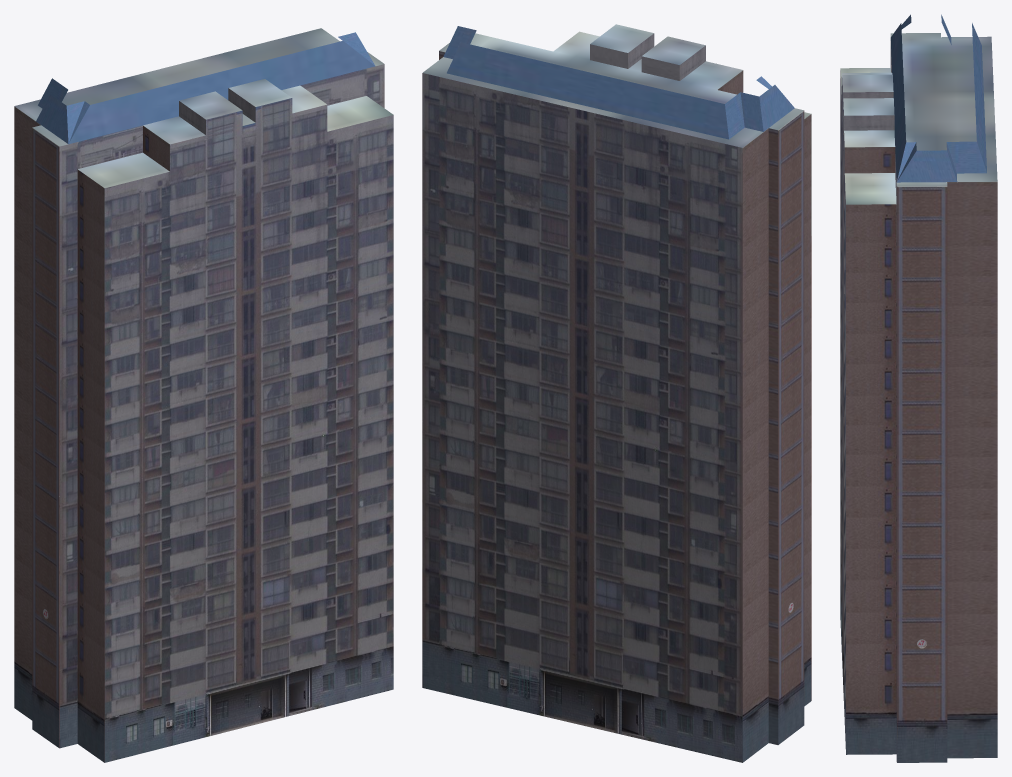
Rendered from jsgy_a7.gltf.
The picture shows the model from 3 angles, left to right: view 1: azimuth 30°, elevation 25°; view 2: azimuth 150°, elevation 25°; view 3: azimuth 270°, elevation 25°; orthographic projection. The views are drawn at different scales.
Parts seen in each view (by area): view 1: Model#11; view 2: Model#11; view 3: Model#11.
Boxes of the visible parts, <box> form: Model#11: <box>14,28,393,762</box>; Model#11: <box>422,24,811,762</box>; Model#11: <box>840,14,997,762</box>.
Bounding box in the file's own units: 0.0361 × 0.066 × 0.0156.
Materials: 3 (3 with a texture image).
